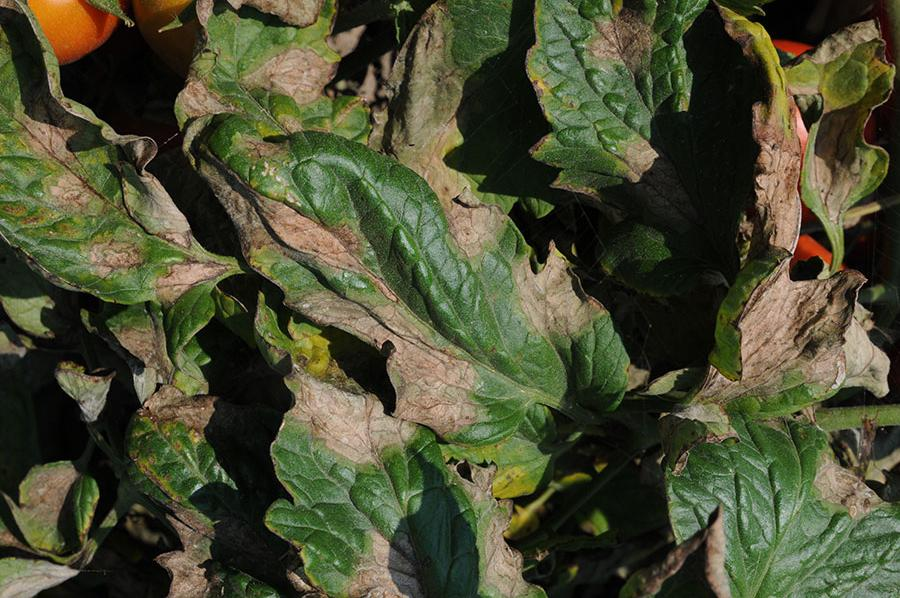Tomato leaf late blight: (186, 93, 643, 438), (1, 10, 243, 321), (658, 184, 900, 479), (252, 355, 548, 586), (513, 0, 753, 259), (632, 418, 900, 594)
